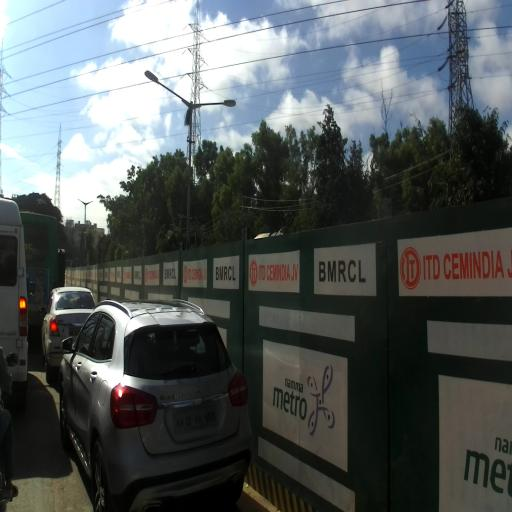street_light_0: (77, 196, 86, 206), (84, 199, 94, 206)
